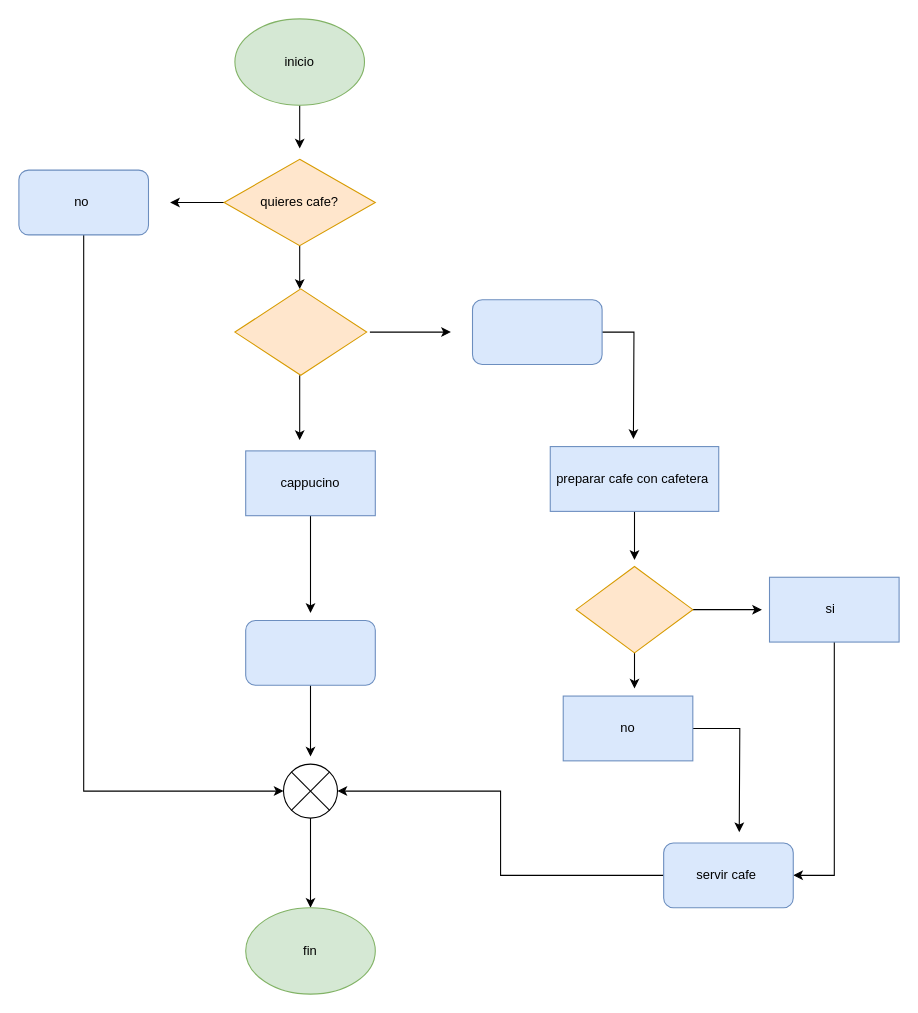
The diagram is 918 pixels wide and 1013 high, and some of its shapes have lost their labels. Each missing label, with the box of its shape:
con azurcar ?: (575, 565, 693, 653)
negro: (471, 299, 602, 364)
negro o capuccino ?: (234, 288, 367, 375)
preaparar capuccino con maquina: (245, 619, 375, 685)
